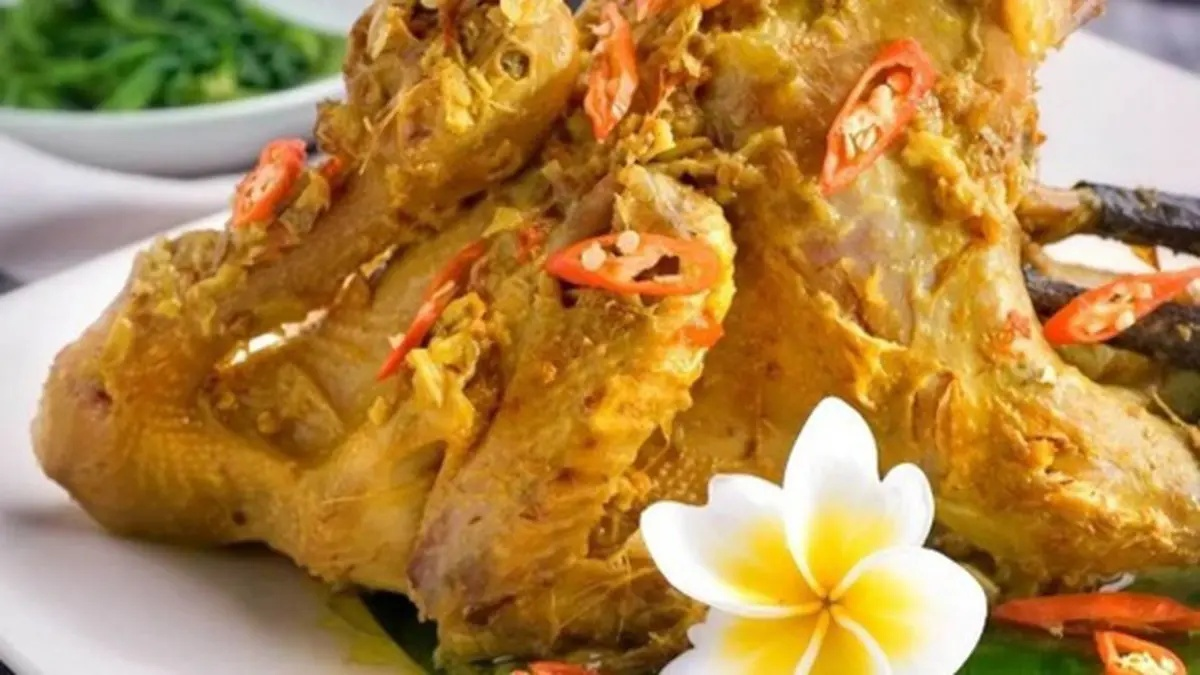ayam_betutu: (28, 3, 1106, 396)
